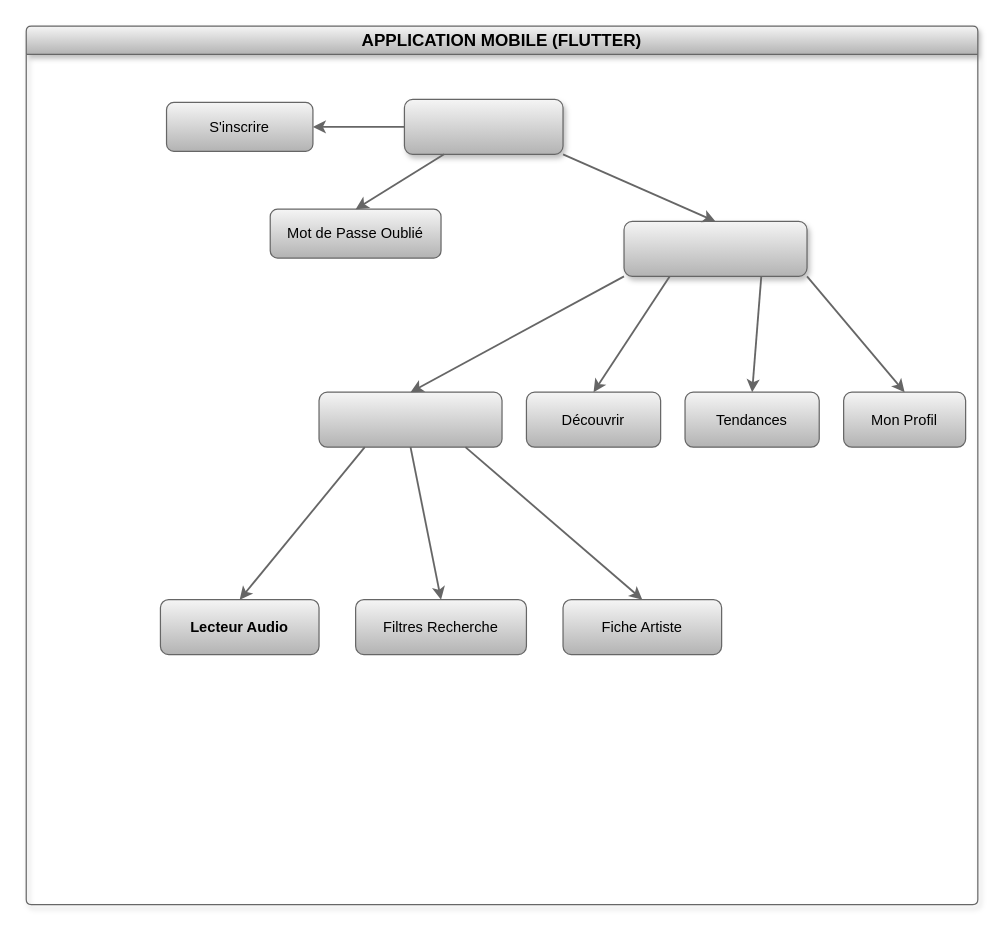
Some shapes in this 1007 by 935 pixel diagram are drawn without their labels. The centre of each missing label's shape, as x and y in pixels:
"Accueil (À la Une)" goes at point 716,250.
"Rechercher & Genres" goes at point 410,419.
"Se Connecter" goes at point 484,128.
